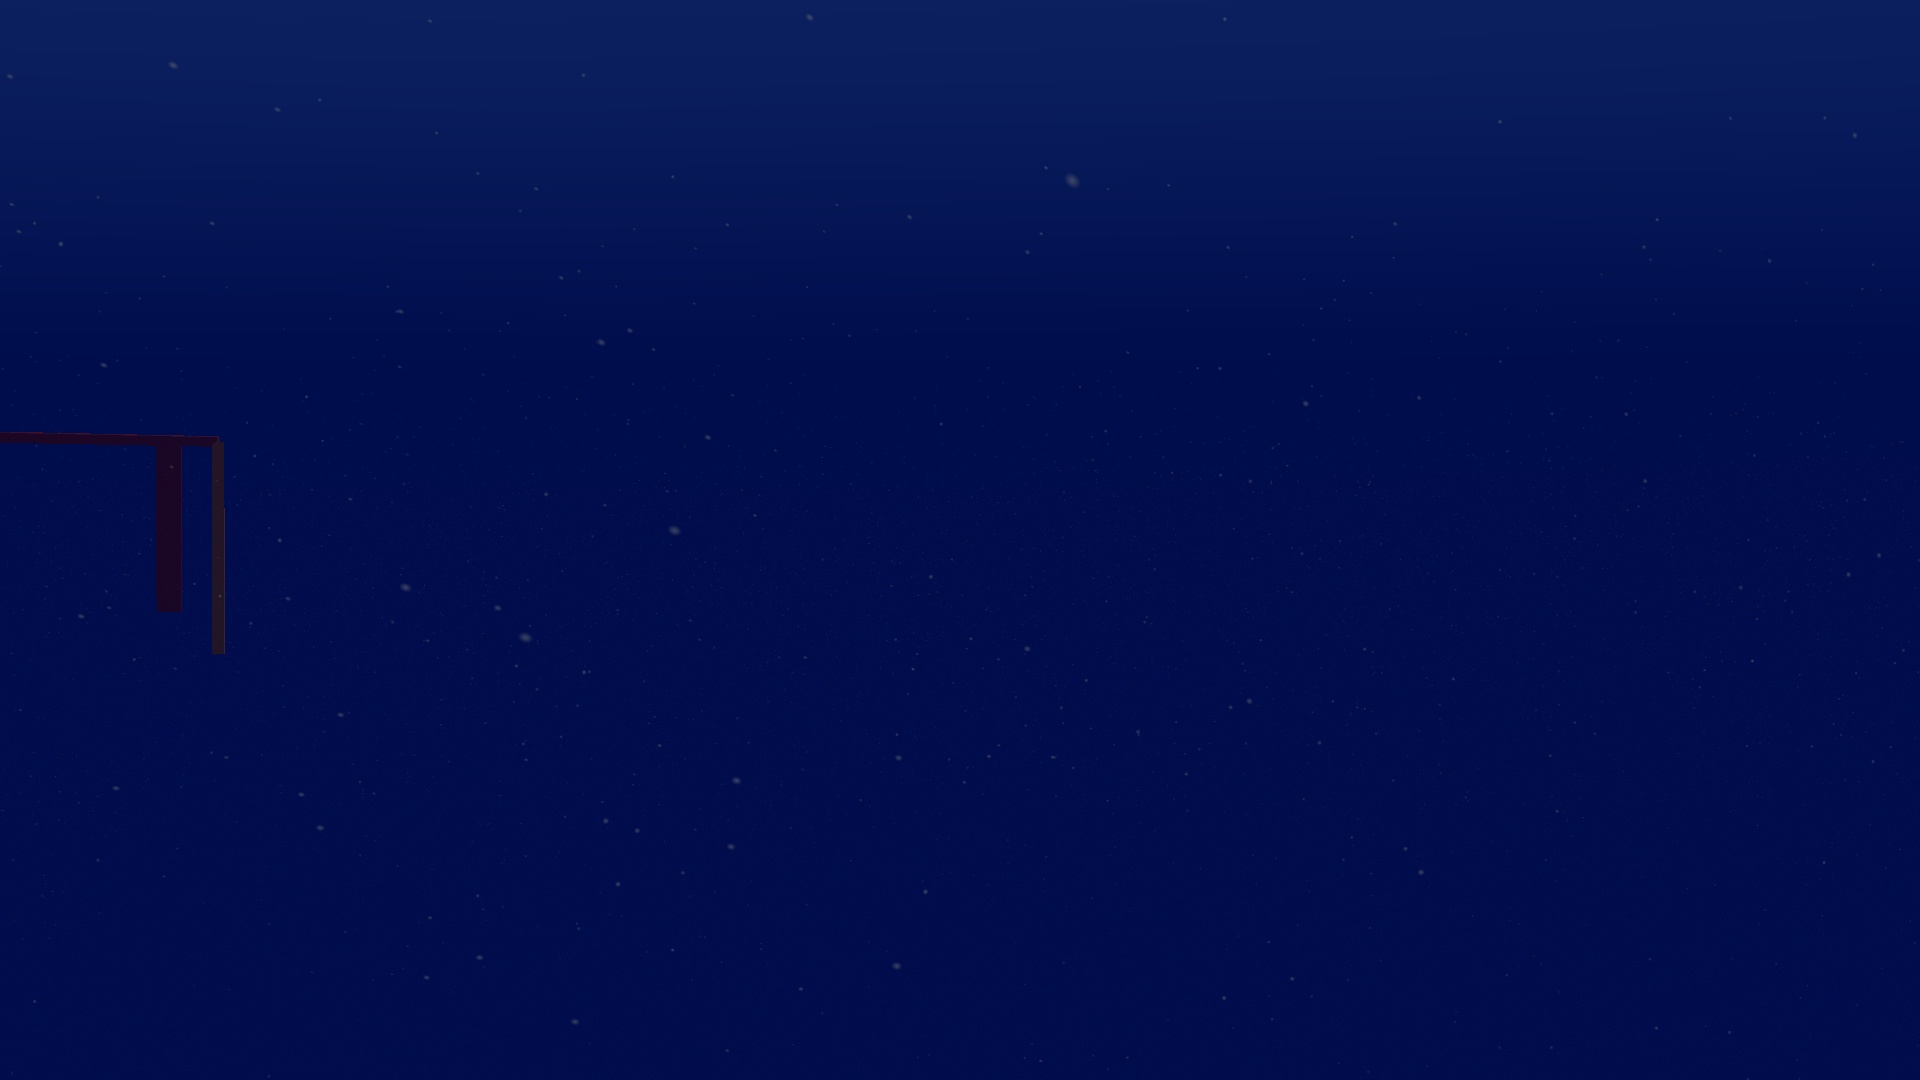Gate: (1, 423, 237, 666)
